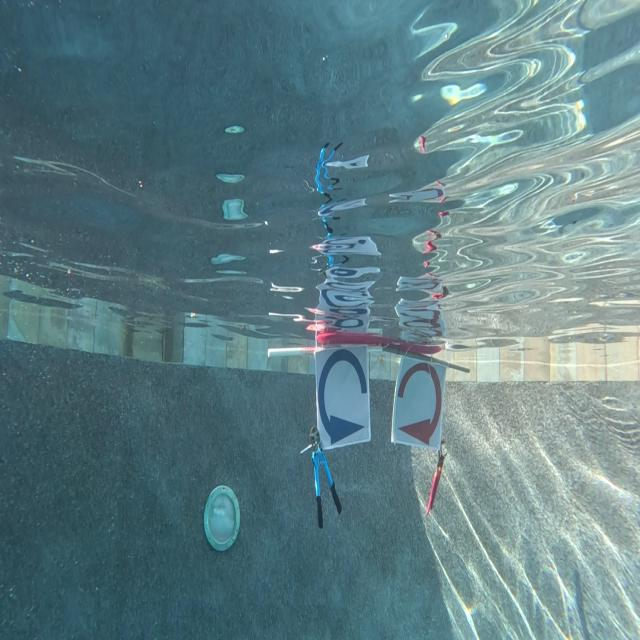blue_side: (314, 350, 370, 444)
red_side: (392, 356, 443, 446)
